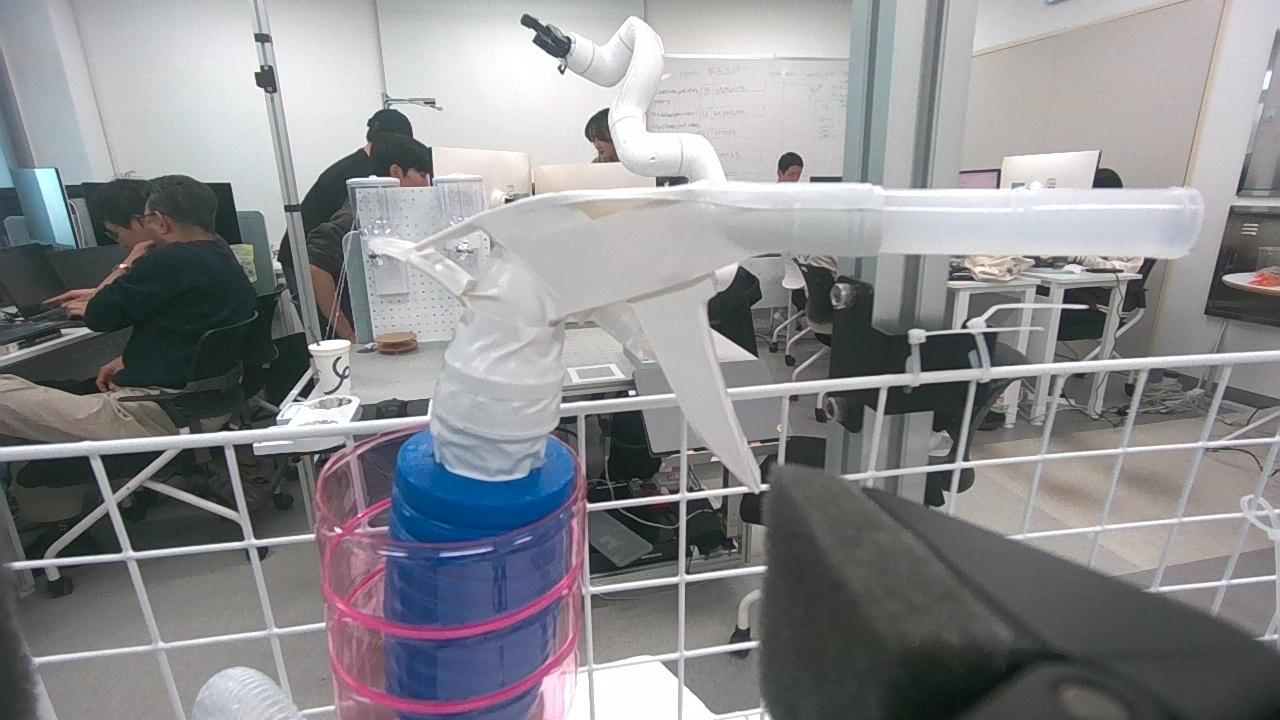Nozzle: (357, 163, 885, 720)
